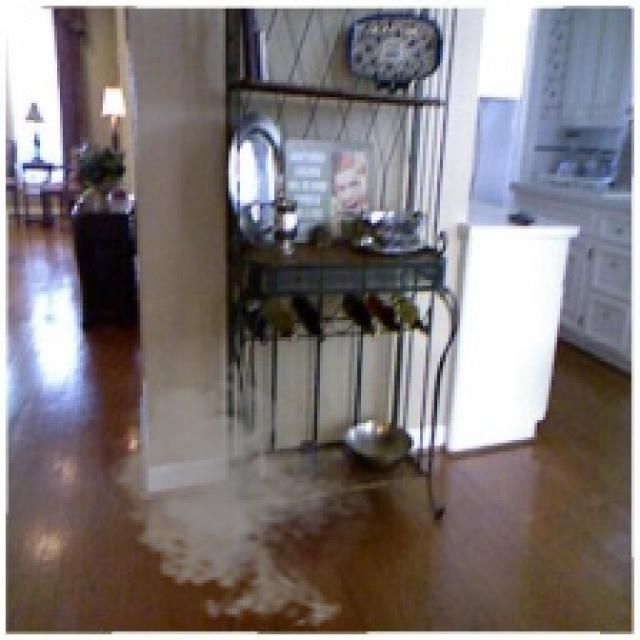smoke: (106, 360, 380, 634)
